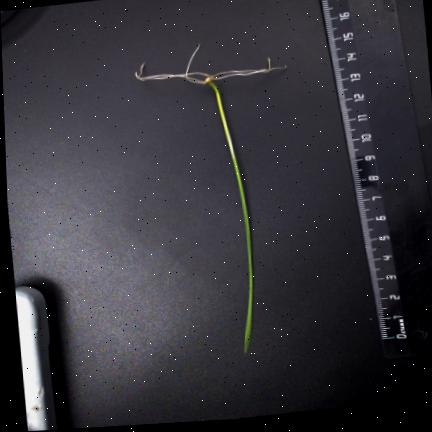leaf: (231, 156, 253, 355)
root1: (136, 63, 203, 83)
root2: (184, 43, 201, 83)
root3: (134, 71, 211, 81)
root4: (210, 58, 270, 78)
root5: (212, 65, 286, 80)
stem: (202, 77, 233, 156)
